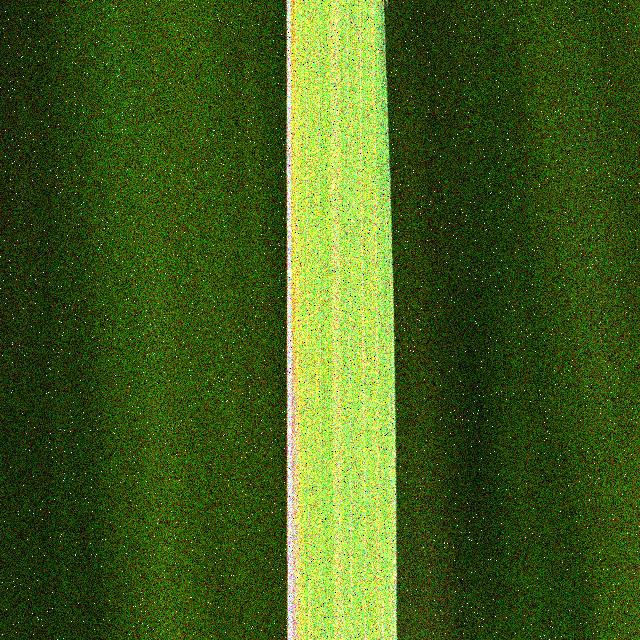BLB: (287, 0, 302, 639)
